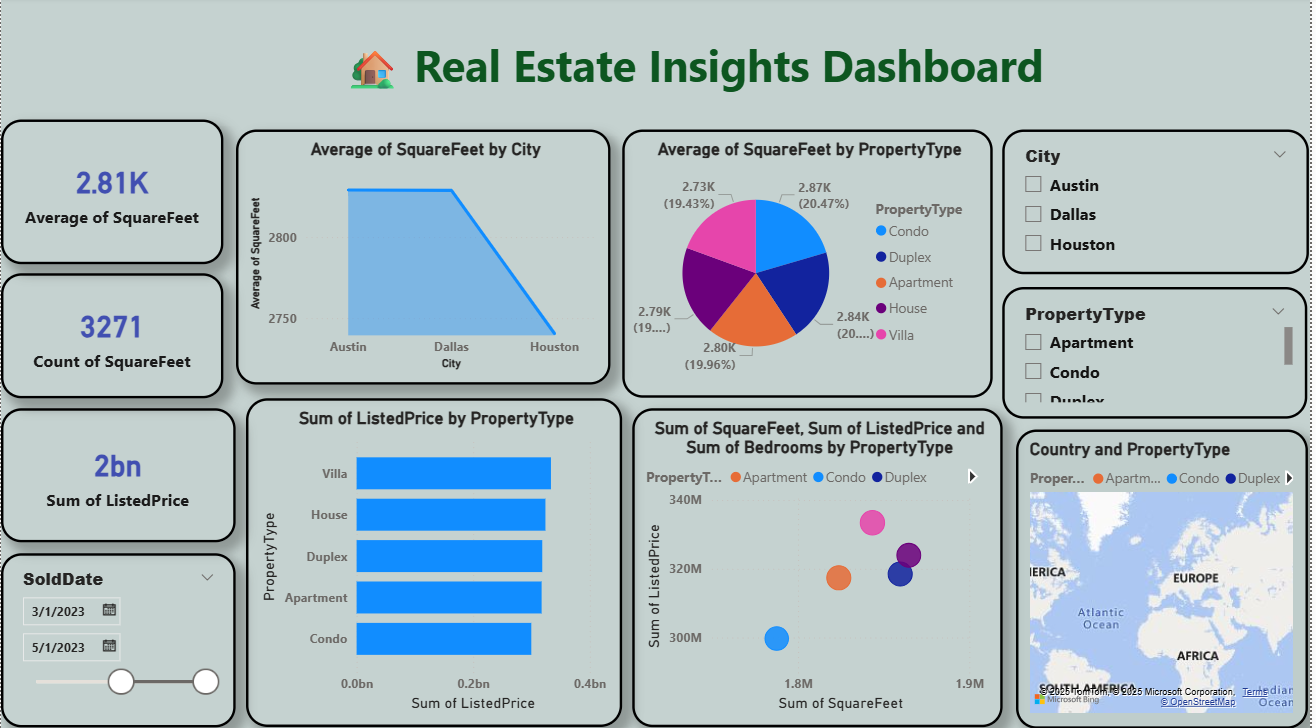

What the dashboard file says about the page in this screenshot:
{"tool":"powerbi","page":{"name":"Page 2","canvas":[1280,720],"ordinal":1},"visuals":[{"type":"card","fields":{"Values":["Avg(Properties.SquareFeet)"]},"box":[0,119.7,217.9,141.4],"z":0},{"type":"card","fields":{"Values":["CountNonNull(Properties.SquareFeet)"]},"box":[0,269.8,217.9,122.6],"z":1000},{"type":"card","fields":{"Values":["Sum(Properties.ListedPrice)"]},"box":[0,402.5,229.4,131.3],"z":2000},{"type":"clusteredBarChart","fields":{"Category":["Properties.PropertyType"],"Y":["Sum(Properties.ListedPrice)"]},"box":[239.5,392.4,367.9,321.7],"z":3000},{"type":"scatterChart","fields":{"Series":["Properties.PropertyType"],"Size":["Sum(Properties.Bedrooms)"],"X":["Sum(Properties.SquareFeet)"],"Y":["Sum(Properties.ListedPrice)"]},"box":[617.5,402.5,362.1,311.6],"z":4000},{"type":"areaChart","fields":{"Category":["Properties.City"],"Y":["Avg(Properties.SquareFeet)"]},"box":[229.4,129.8,366.5,249.6],"z":5000},{"type":"pieChart","fields":{"Category":["Properties.PropertyType"],"Y":["Avg(Properties.SquareFeet)"]},"box":[607.4,129.8,362.1,262.6],"z":6000},{"type":"slicer","fields":{"Values":["Properties.SoldDate"]},"box":[0,543.9,229.4,170.2],"z":6001},{"type":"textbox","box":[168.8,31.7,1030.1,75],"z":6002},{"type":"slicer","fields":{"Values":["Properties.City"]},"box":[979.6,129.8,300.1,141.4],"z":6003},{"type":"slicer","fields":{"Values":["Properties.PropertyType"]},"box":[979.6,284.2,298.7,128.4],"z":6004},{"type":"map","fields":{"Category":["Properties.Country"],"Series":["Properties.PropertyType"]},"box":[992.6,422.7,285.7,292.9],"z":6005}]}

Visuals, with their boxes in screenshot pixels (x1, y1, x2, y2), scaled from the page's 1280x720 canvas onto the 1316x728 screenshot:
card - Avg(Properties.SquareFeet): l=0, t=121, r=224, b=264
card - CountNonNull(Properties.SquareFeet): l=0, t=273, r=224, b=397
card - Sum(Properties.ListedPrice): l=0, t=407, r=236, b=540
clusteredBarChart - Properties.PropertyType x Sum(Properties.ListedPrice): l=246, t=397, r=624, b=722
scatterChart - Properties.PropertyType x Sum(Properties.Bedrooms): l=635, t=407, r=1007, b=722
areaChart - Properties.City x Avg(Properties.SquareFeet): l=236, t=131, r=613, b=384
pieChart - Properties.PropertyType x Avg(Properties.SquareFeet): l=624, t=131, r=997, b=397
slicer - Properties.SoldDate: l=0, t=550, r=236, b=722
textbox: l=174, t=32, r=1233, b=108
slicer - Properties.City: l=1007, t=131, r=1315, b=274
slicer - Properties.PropertyType: l=1007, t=287, r=1314, b=417
map - Properties.Country x Properties.PropertyType: l=1021, t=427, r=1314, b=724
